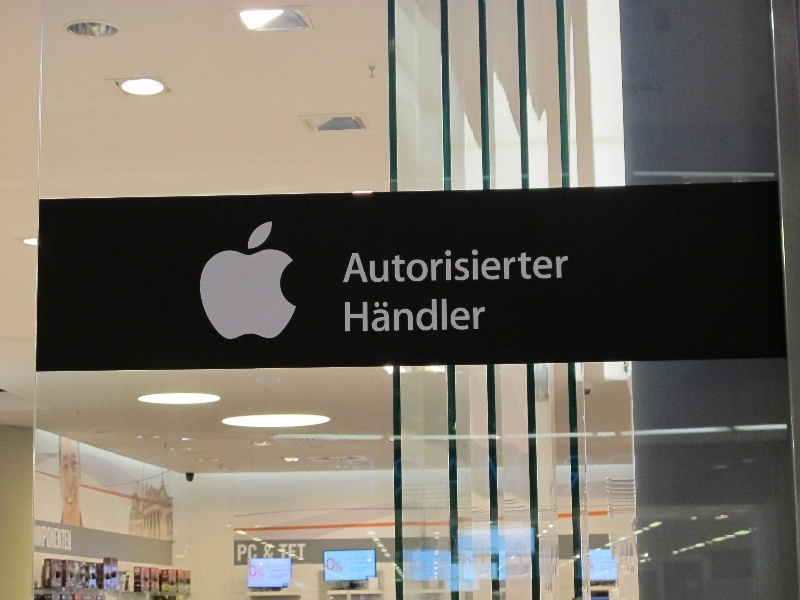text: (353, 245, 368, 285), (369, 245, 384, 285), (385, 245, 400, 285), (401, 245, 416, 285), (417, 245, 432, 285), (433, 245, 448, 285), (449, 245, 464, 285), (465, 245, 480, 285), (481, 245, 496, 285), (497, 245, 512, 285), (513, 245, 528, 285), (529, 245, 544, 285), (545, 245, 560, 285), (353, 299, 368, 334), (369, 299, 384, 334), (385, 299, 400, 334), (401, 299, 416, 334), (417, 299, 432, 334), (433, 299, 448, 334), (449, 299, 464, 334), (465, 299, 480, 334), (49, 523, 64, 553), (35, 523, 48, 553), (561, 245, 570, 285), (65, 523, 76, 553), (241, 543, 256, 564), (289, 542, 304, 562), (344, 299, 352, 334), (481, 299, 488, 334), (278, 542, 288, 562), (465, 556, 477, 572), (326, 556, 336, 572), (417, 557, 427, 573), (263, 543, 272, 559), (337, 556, 345, 572), (257, 565, 265, 578), (249, 565, 256, 578), (237, 543, 240, 564), (305, 542, 308, 562), (273, 543, 276, 559), (413, 557, 416, 573), (257, 543, 259, 564), (351, 245, 352, 285)
